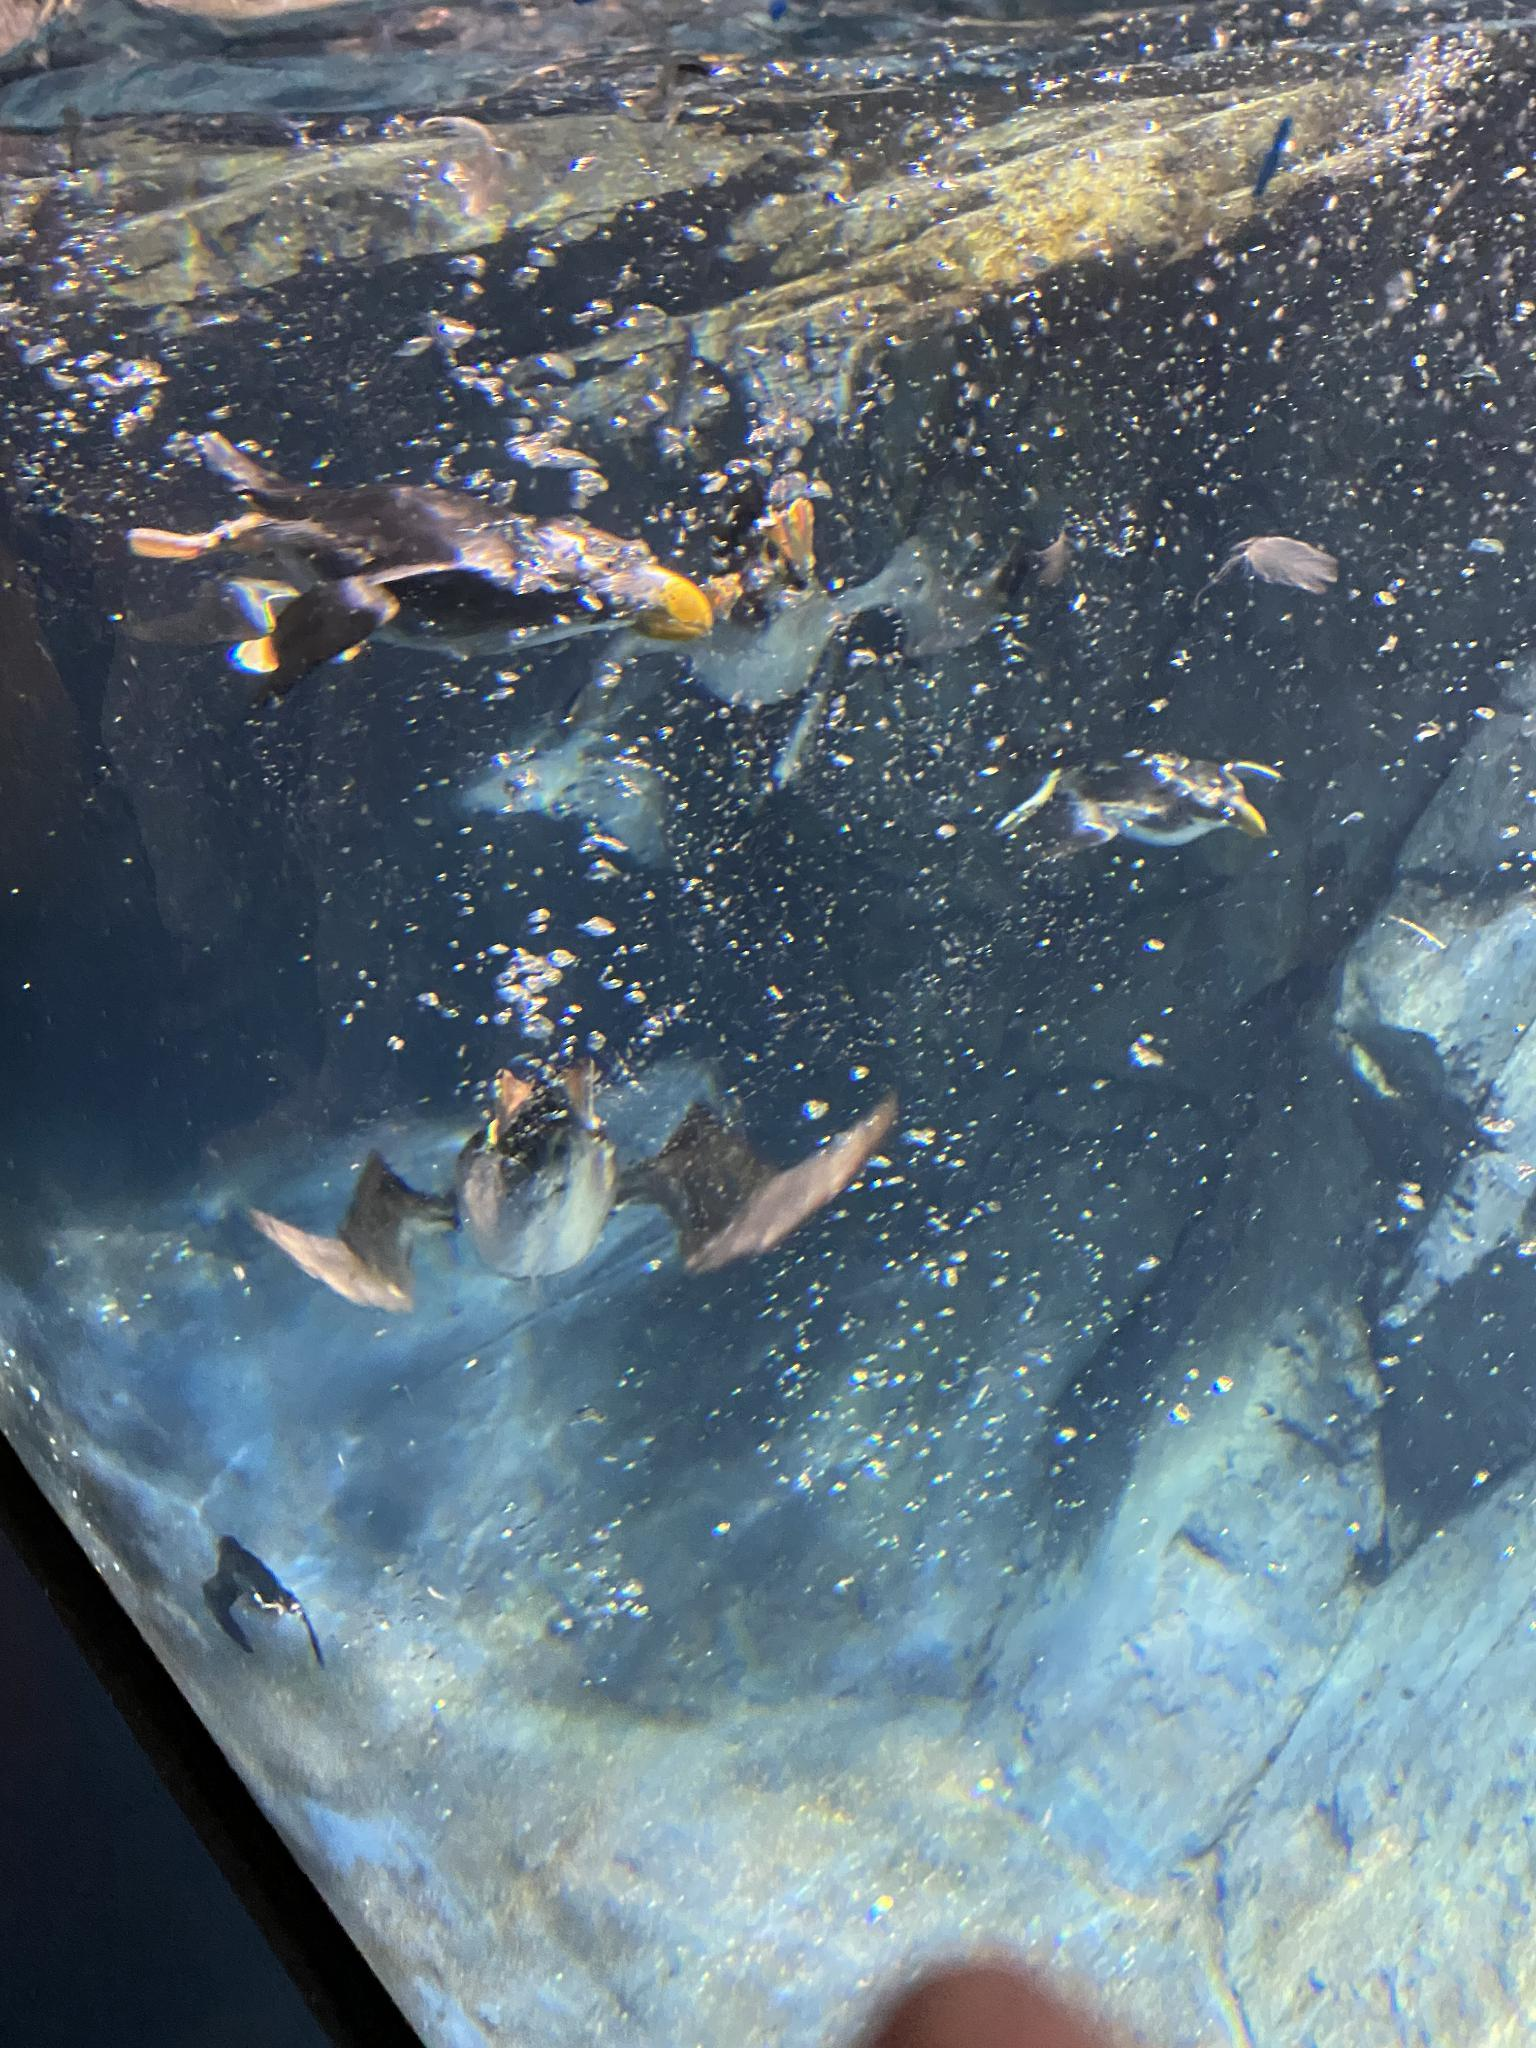puffin: (240, 1051, 899, 1317), (129, 427, 716, 689), (582, 487, 1065, 708), (991, 737, 1279, 856), (202, 1535, 324, 1671)
